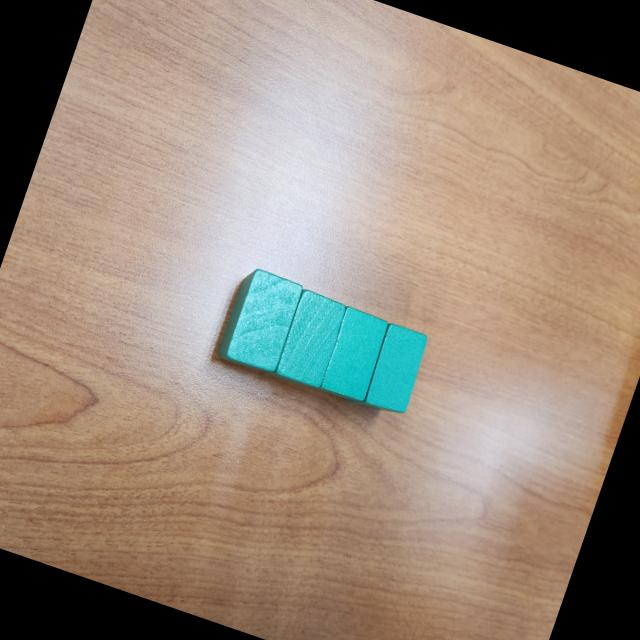green: (214, 264, 305, 379), (260, 283, 350, 394), (343, 317, 431, 421), (316, 306, 392, 408)
